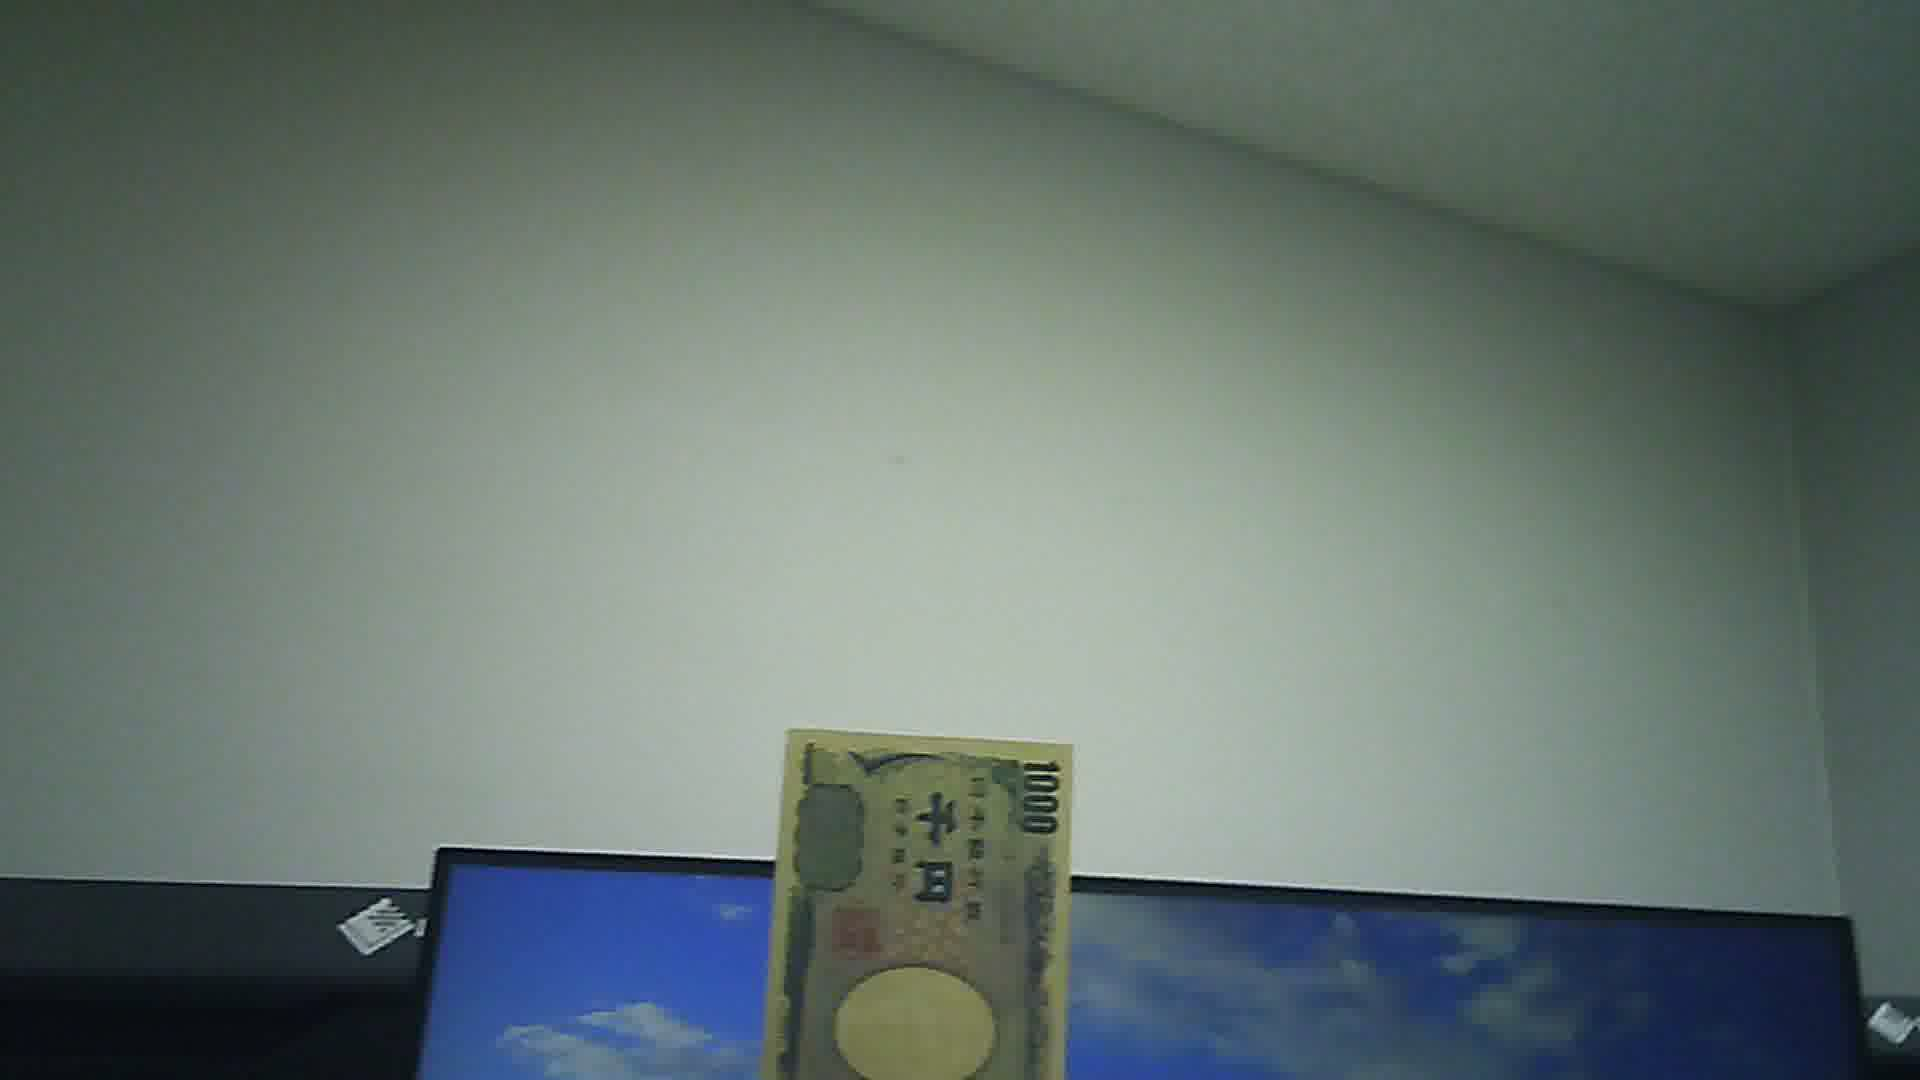1,000 Yen: (769, 717, 1073, 1079)
